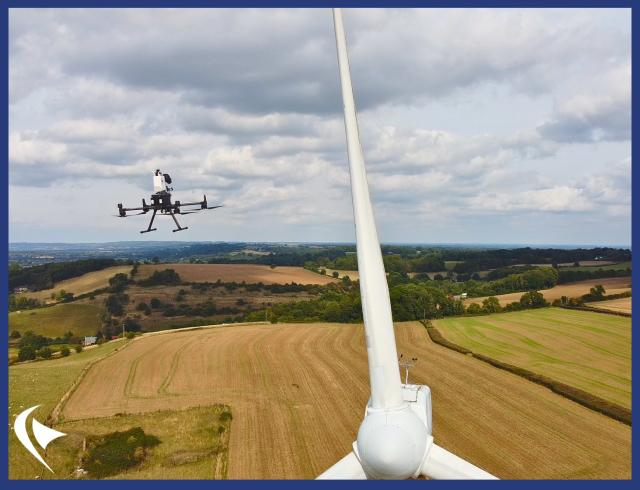drone: (108, 167, 226, 233)
